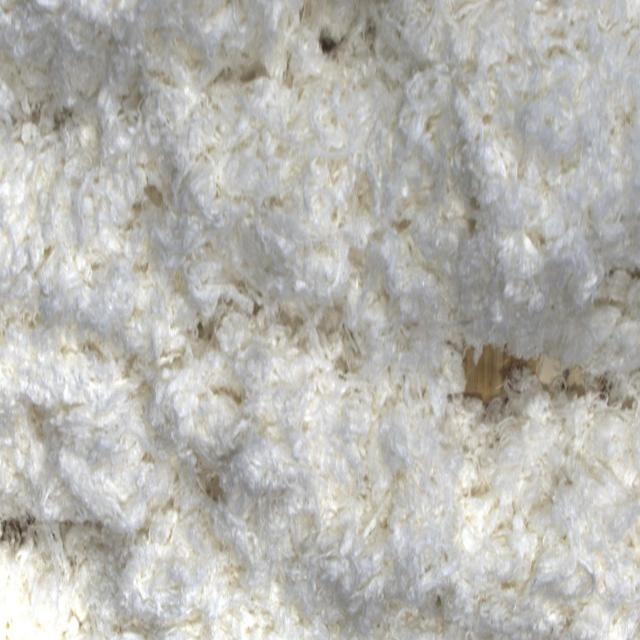dust: (460, 338, 531, 424)
